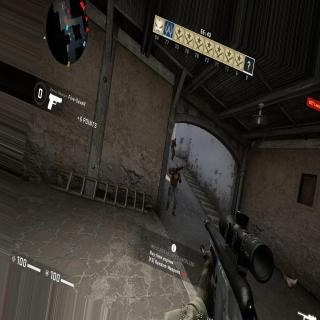T-Body: (165, 160, 181, 216), (171, 138, 177, 161)
T-Head: (177, 163, 180, 169), (175, 137, 176, 141)
